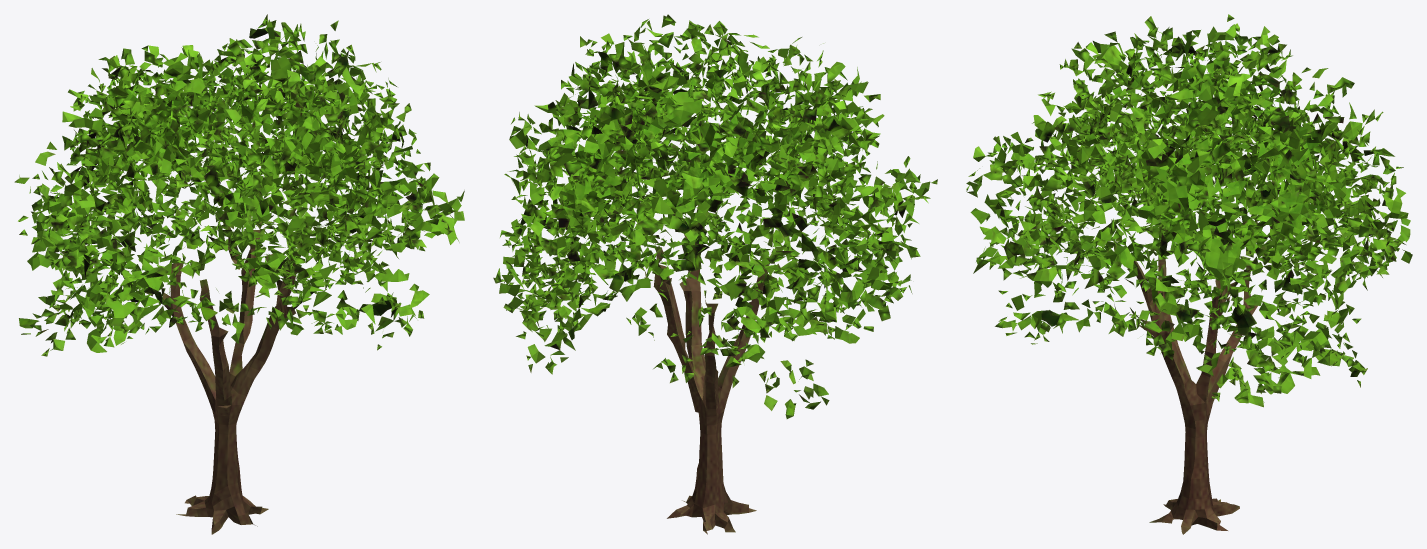
The model's file is Arvore_9.glb.
3 renders of one model, left to right at view 1: azimuth 30°, elevation 25°; view 2: azimuth 150°, elevation 25°; view 3: azimuth 270°, elevation 25°, orthographic.
Bounding box in the file's own units: 1.6 × 1.87 × 1.59.
1 material, 1 textured.
